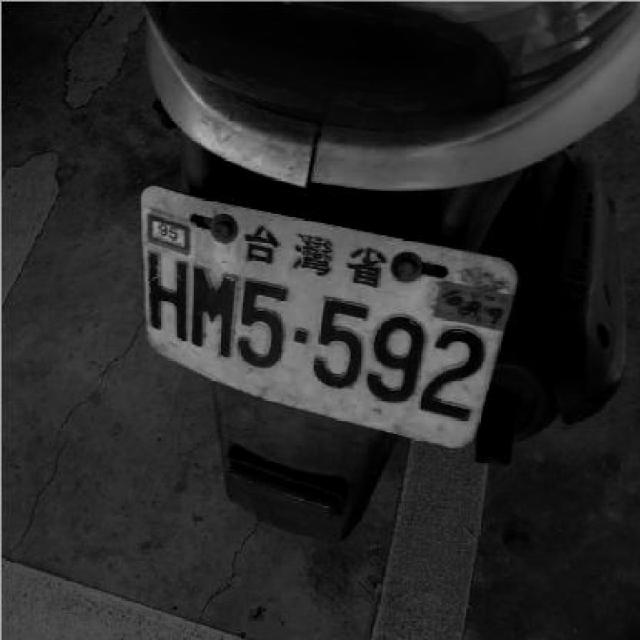-: (288, 322, 310, 344)
2: (414, 322, 484, 420)
5: (305, 293, 368, 390), (231, 274, 287, 369)
9: (362, 309, 423, 401)
H: (142, 243, 183, 339)
M: (186, 259, 234, 356)
